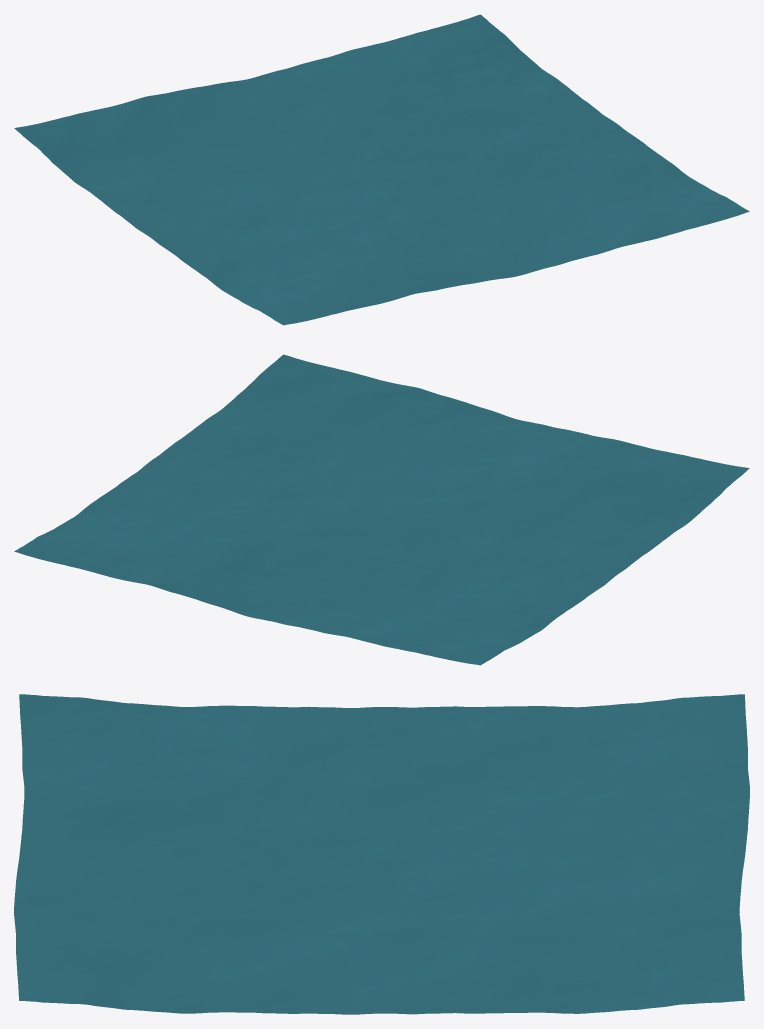
File: ocean.glb
3 renders of one model, top to bottom at view 1: azimuth 30°, elevation 25°; view 2: azimuth 150°, elevation 25°; view 3: azimuth 270°, elevation 25°, orthographic. The views are drawn at different scales.
Parts seen in each view (by area): view 1: BlenderOcean; view 2: BlenderOcean; view 3: BlenderOcean.
Boxes of the visible parts, bbox=[...] form: BlenderOcean: bbox=[14, 14, 749, 325]; BlenderOcean: bbox=[14, 354, 749, 665]; BlenderOcean: bbox=[14, 694, 749, 1014].
Bounding box in the file's own units: 120 × 3.17 × 122.
